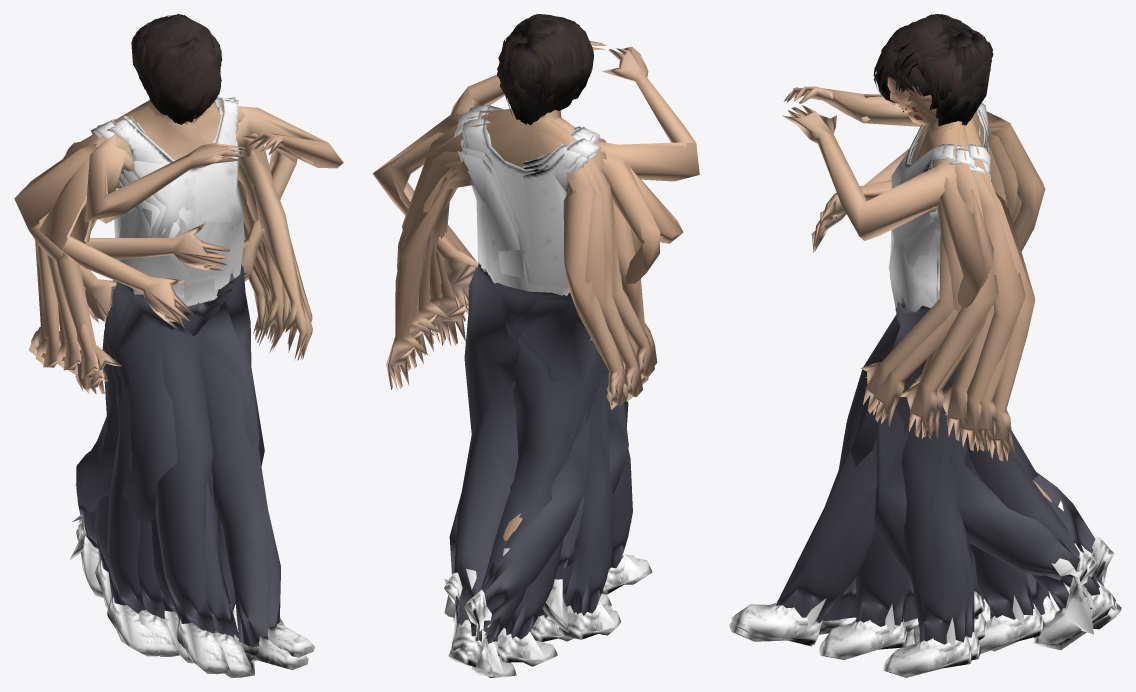
3 views of the same model, side by side, from view 1: azimuth 30°, elevation 25°; view 2: azimuth 150°, elevation 25°; view 3: azimuth 270°, elevation 25° (orthographic). The views are drawn at different scales.
Parts seen in each view (by area): view 1: geh1, geh6, steh, hueften, foto, handy, geh0, geh4, geh3, geh5, reden, geh7 (+1 smaller); view 2: geh6, geh2, geh4, hueften, geh3, geh5, geh7, geh1, foto, geh0, steh, handy (+1 smaller); view 3: geh7, hueften, geh0, geh5, geh1, geh2, geh3, geh4, foto, geh6, steh, handy (+1 smaller).
Boxes of the visible parts, x1,y1,x2,y2 form: geh1: [32, 114, 309, 674]; geh6: [76, 77, 308, 670]; steh: [56, 14, 286, 656]; hueften: [14, 102, 297, 656]; foto: [85, 106, 343, 233]; handy: [70, 36, 237, 647]; geh0: [58, 22, 312, 521]; geh4: [46, 16, 276, 466]; geh3: [36, 34, 297, 663]; geh5: [73, 70, 314, 657]; reden: [39, 14, 229, 329]; geh7: [68, 64, 277, 643]; geh6: [386, 77, 636, 677]; geh2: [439, 162, 635, 652]; geh4: [414, 30, 654, 641]; hueften: [372, 108, 660, 639]; geh3: [429, 61, 642, 658]; geh5: [398, 70, 657, 666]; geh7: [397, 58, 636, 676]; geh1: [445, 63, 652, 594]; foto: [450, 41, 699, 181]; geh0: [402, 18, 628, 632]; steh: [435, 14, 648, 609]; handy: [482, 16, 641, 638]; geh7: [818, 56, 1114, 659]; hueften: [883, 129, 993, 677]; geh0: [888, 31, 1019, 648]; geh5: [731, 61, 1056, 651]; geh1: [838, 56, 1044, 653]; geh2: [819, 109, 1115, 644]; geh3: [903, 49, 1097, 634]; geh4: [849, 19, 1006, 644]; foto: [782, 86, 968, 240]; geh6: [728, 69, 1121, 650]; steh: [889, 14, 980, 659]; handy: [820, 25, 961, 668].
Bounding box in the file's own units: 0.8587 × 1.76 × 0.9892.
1 material, 1 textured.
